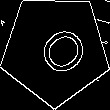O_SW: (23, 17, 87, 82)
